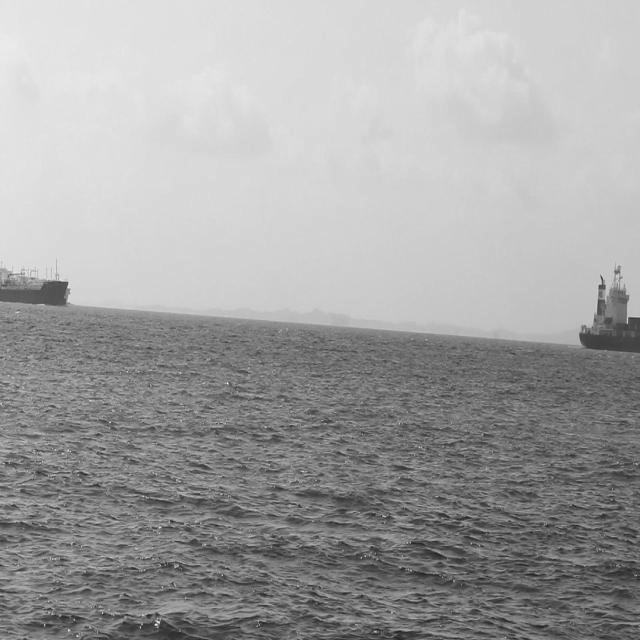ship: (583, 260, 638, 354), (1, 268, 62, 310)
